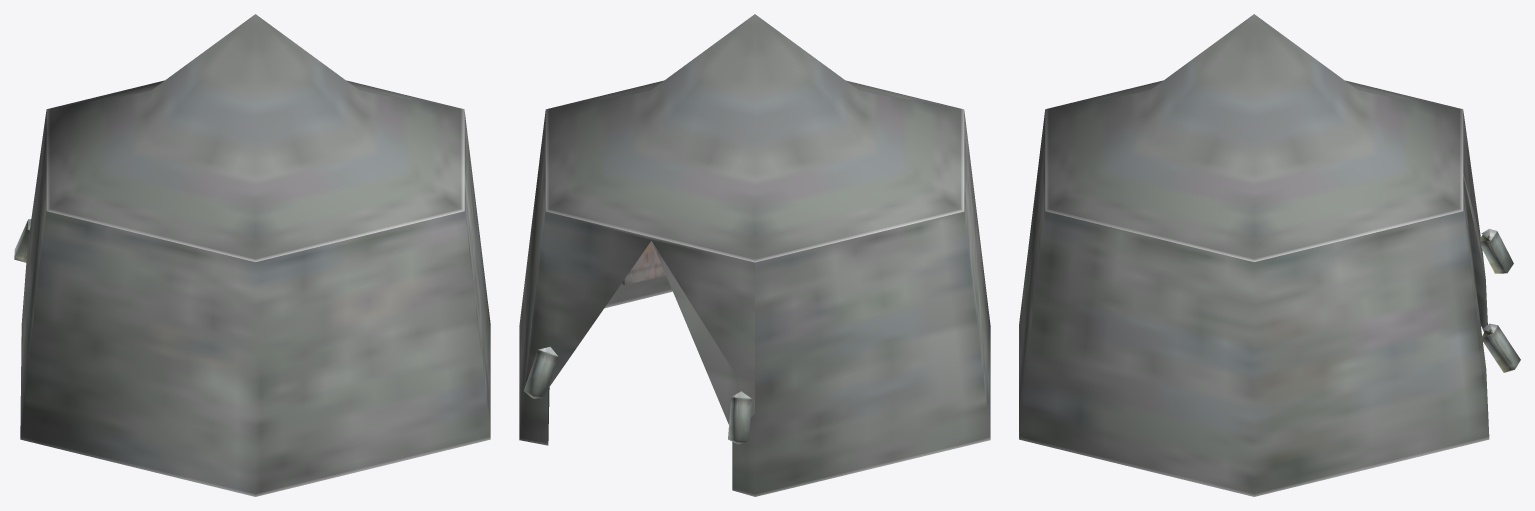
The model's file is poi_all_tent_hut_s01_l1.fbx.
The picture shows the model from 3 angles, left to right: view 1: azimuth 30°, elevation 25°; view 2: azimuth 150°, elevation 25°; view 3: azimuth 270°, elevation 25°; orthographic projection.
Visible parts, largest first — view 1: mesh_node; view 2: mesh_node; view 3: mesh_node.
Part boxes in pixels (x1,y1,x2,y2): mesh_node: [14, 14, 490, 496]; mesh_node: [519, 14, 990, 496]; mesh_node: [1019, 14, 1520, 496].
Bounding box in the file's own units: 8.62 × 6.45 × 7.97.
Materials: 1 (1 with a texture image).
